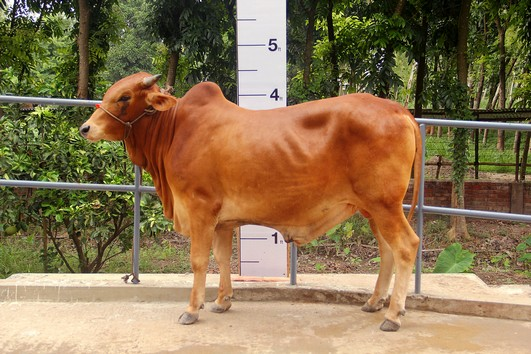cow: (73, 60, 429, 337)
